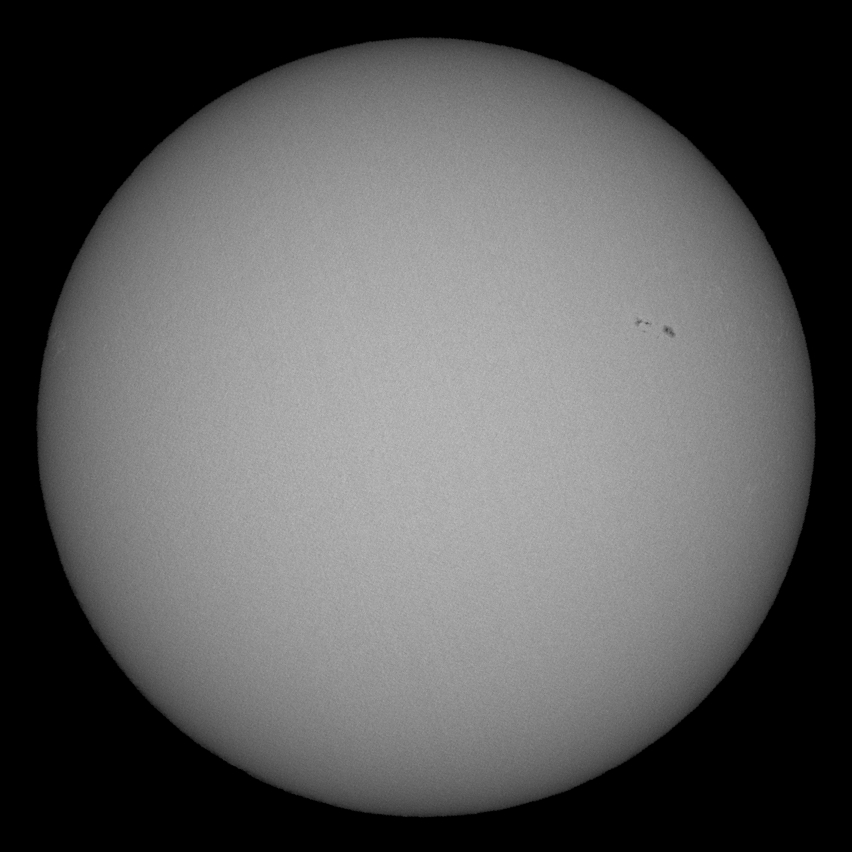sunspot: (629, 313, 683, 341)
